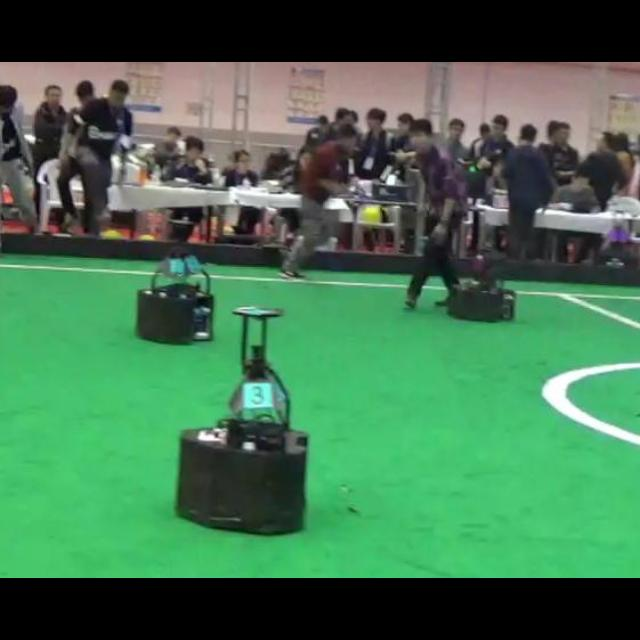ball: (360, 206, 383, 224), (100, 229, 123, 240)
robot: (177, 307, 308, 535), (136, 246, 214, 345), (449, 257, 517, 322)
